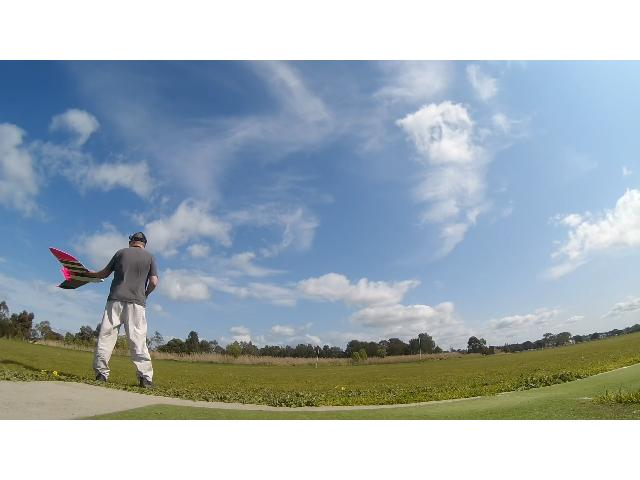Anti-Drone: (38, 240, 110, 302)
